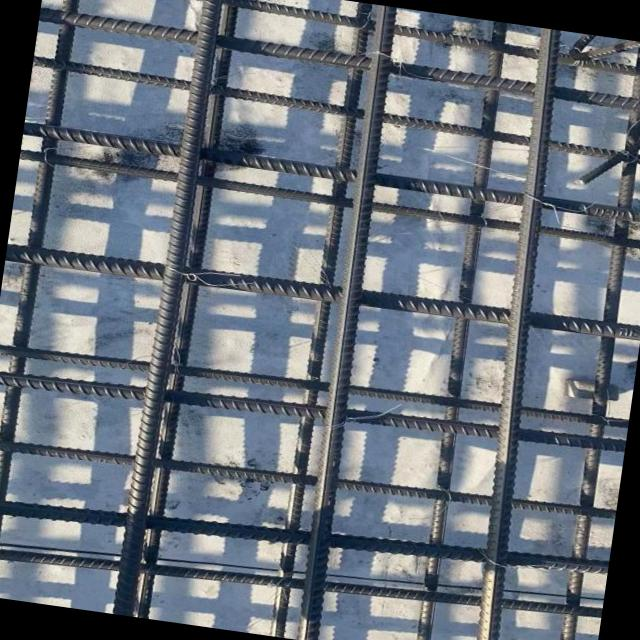ribbed bar: (453, 28, 586, 640), (109, 0, 240, 618), (0, 472, 609, 602), (0, 352, 626, 474), (290, 5, 409, 640), (0, 518, 602, 640), (7, 236, 640, 351), (0, 330, 629, 445), (0, 421, 616, 538), (404, 21, 519, 640), (32, 54, 640, 169), (40, 6, 640, 116), (24, 120, 640, 227), (271, 2, 374, 638), (21, 148, 640, 253), (551, 41, 640, 640), (0, 0, 87, 597), (44, 0, 640, 83)
